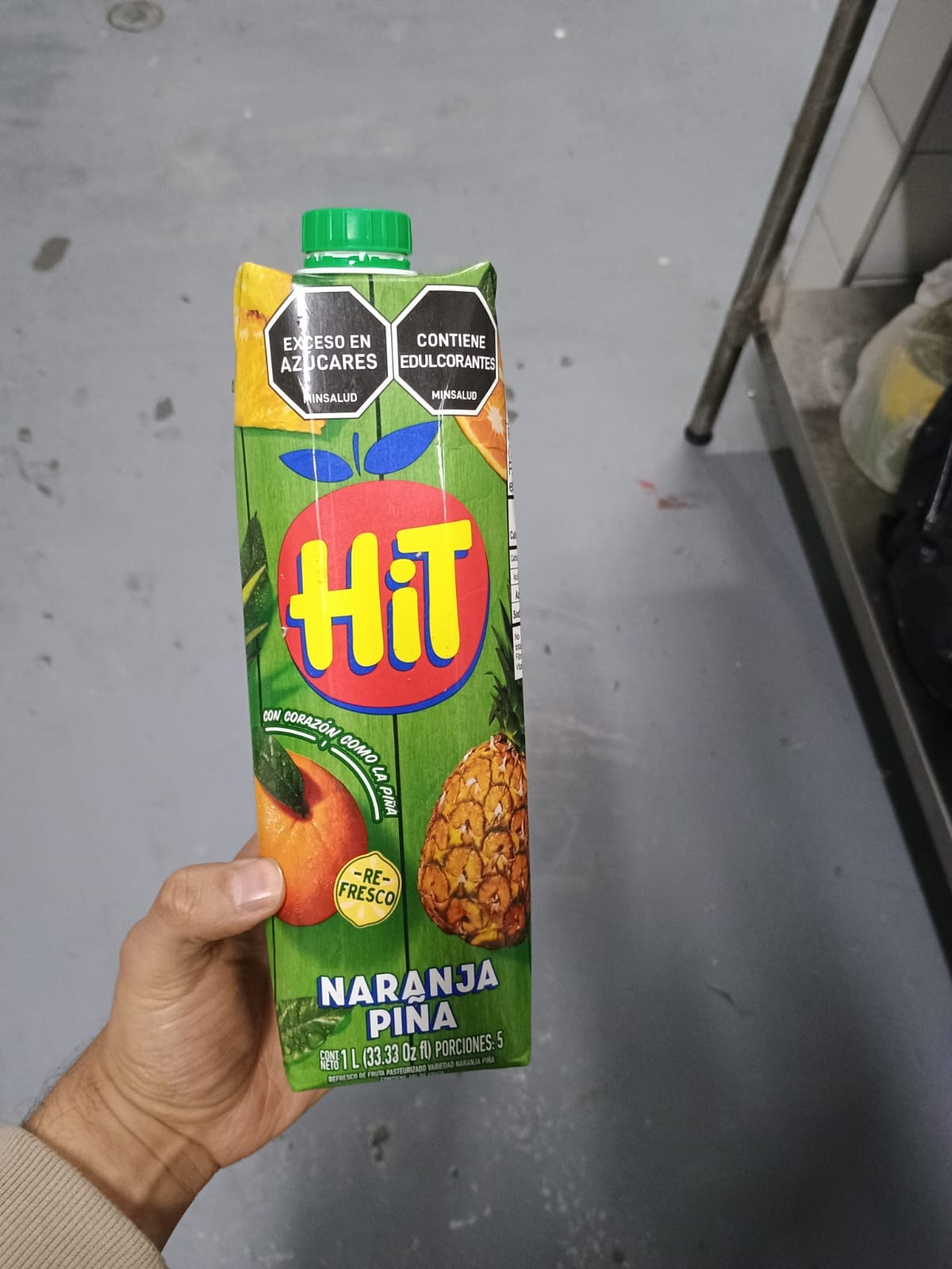Carton: (235, 262, 543, 1092)
Plastico: (301, 204, 416, 257)
